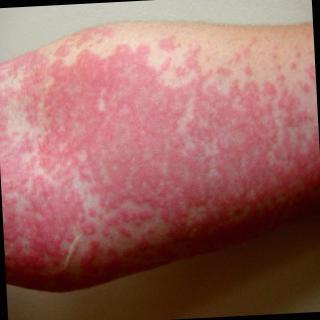urticaria: (38, 85, 242, 169)
